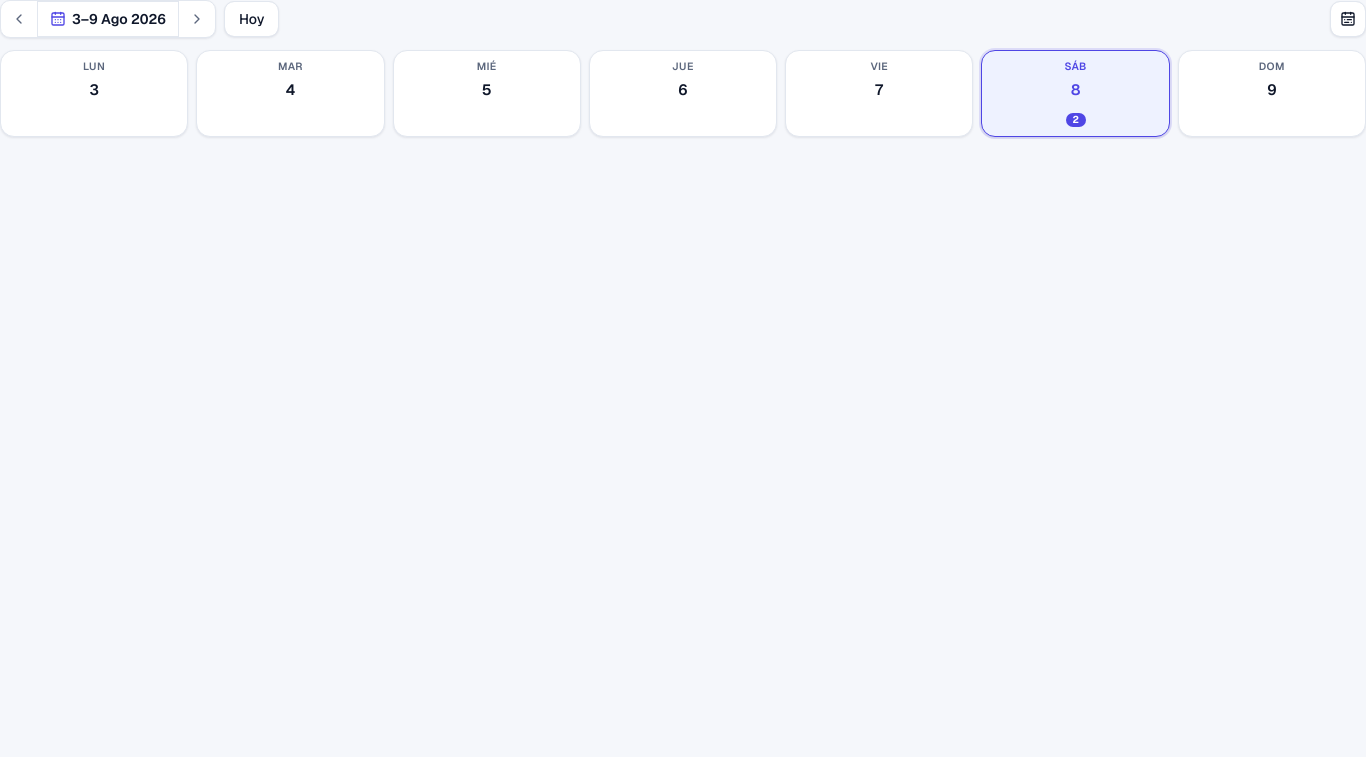
DashboardCalendarNavigator › alterna de forma exclusiva entre la semana y el calendario mensual
Expected: the element named "Días de la semana" is shown, [0,50,1365,137]
Click the button named "Ver calendario mensual". click: (1348, 19)
box: [1330,1,1365,37]
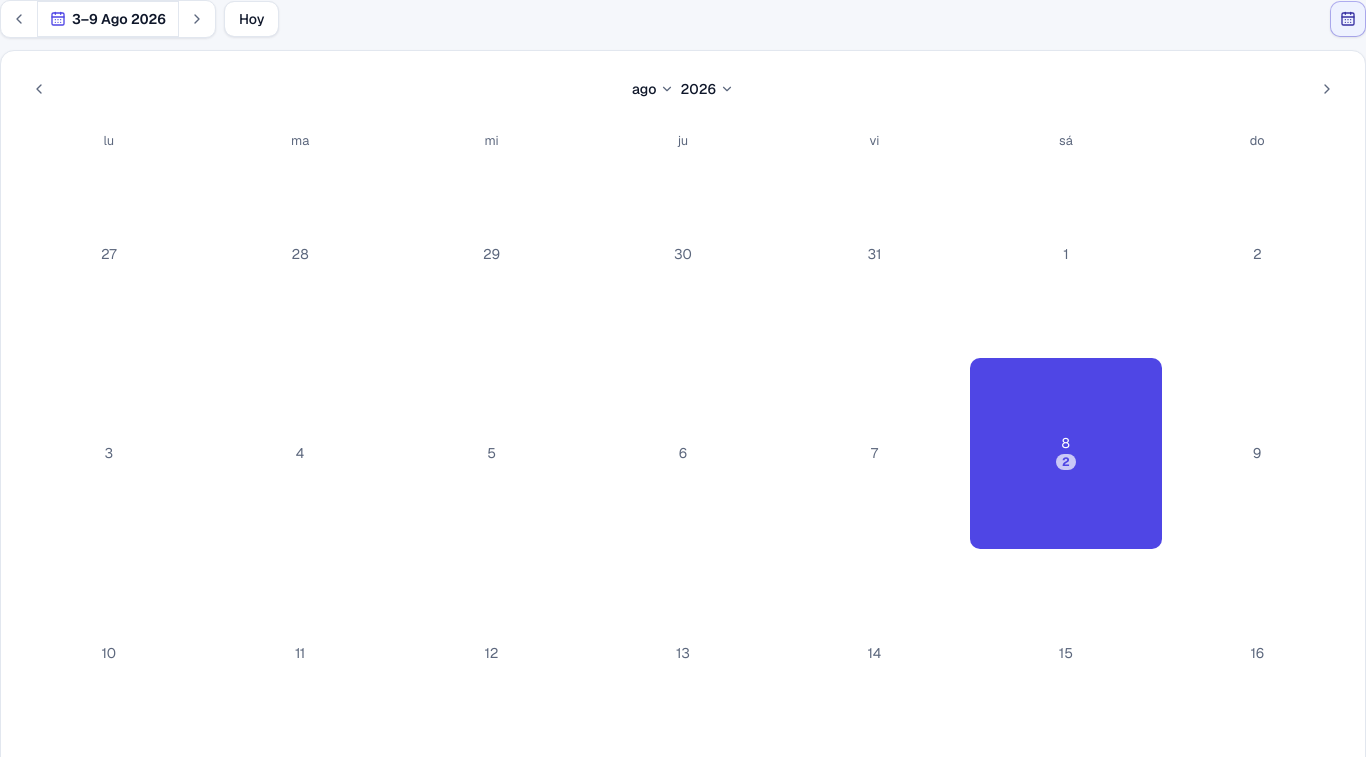
Expected: the button named "Ver semana" is pressed
Click the button named "Ver semana". click: (1348, 19)
box: [1330,1,1365,37]
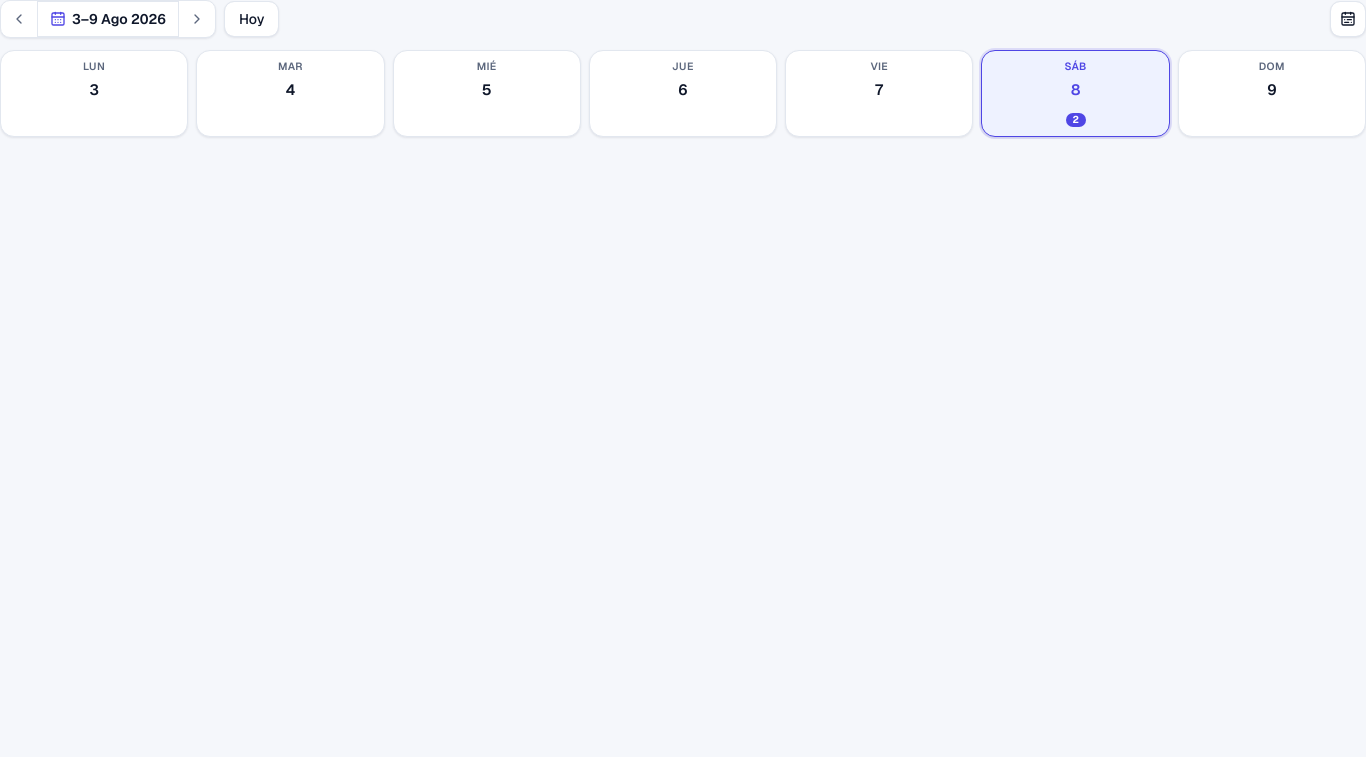
Expected: the element named "Días de la semana" is shown, [0,50,1365,137]
